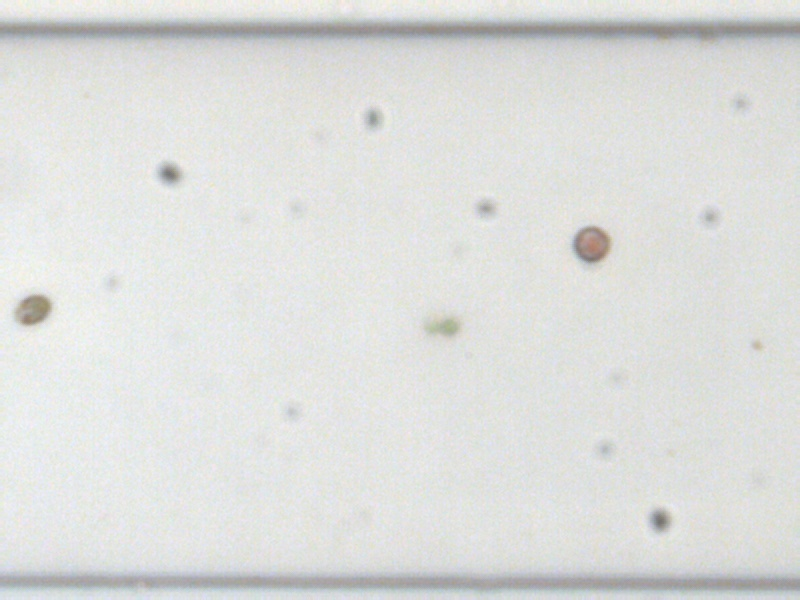Chlorella: (439, 317, 457, 335), (424, 317, 438, 332), (748, 337, 763, 351)
Dunaliella salina: (10, 290, 54, 327)
Porphyridium: (569, 224, 612, 263)
